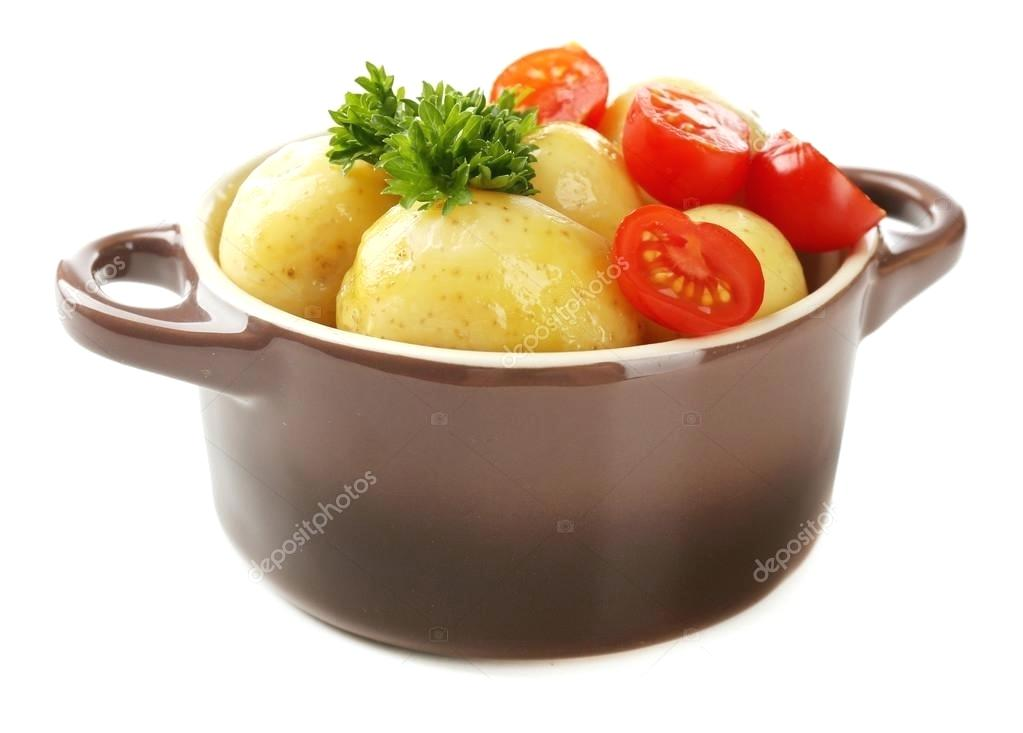boiled potatoes: (208, 112, 661, 352)
